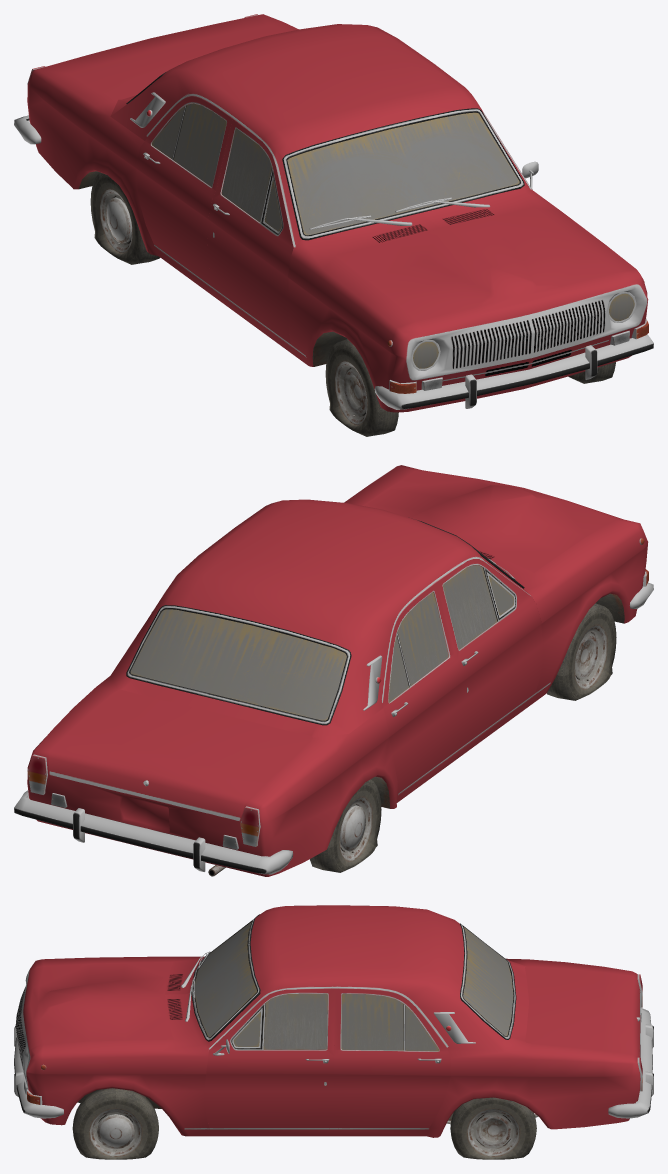
File: car.FBX
The picture shows the model from 3 angles, top to bottom: view 1: azimuth 30°, elevation 25°; view 2: azimuth 150°, elevation 25°; view 3: azimuth 270°, elevation 25°; orthographic projection. The views are drawn at different scales.
Visible parts, largest first — view 1: body, door_fr, door_rr, wheels, bumper_f; view 2: body, door_fr, door_rr, wheels, bumper_r; view 3: body, door_fl, door_rl, wheels, bumper_r, bumper_f.
Part boxes in pixels (x1,y1,x2,y2): body: (27, 14, 648, 412); door_fr: (207, 119, 293, 343); door_rr: (135, 96, 232, 286); wheels: (90, 172, 615, 436); bumper_f: (374, 334, 653, 409); body: (27, 465, 648, 876); door_fr: (437, 559, 543, 749); door_rr: (383, 582, 462, 792); wheels: (310, 603, 616, 872); bumper_r: (14, 790, 293, 874); body: (15, 905, 642, 1137); door_fl: (204, 989, 334, 1127); door_rl: (334, 989, 450, 1127); wheels: (72, 1088, 536, 1159); bumper_r: (608, 1008, 653, 1118); bumper_f: (14, 1026, 63, 1118).
Size of the model in its own units: 72.65 by 56.9 by 186.
